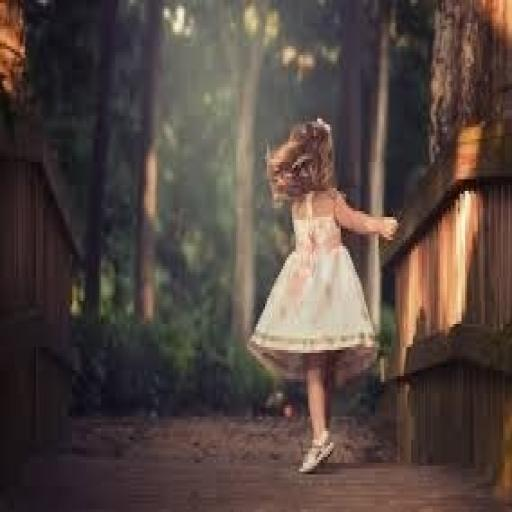dancing: (245, 113, 402, 477)
